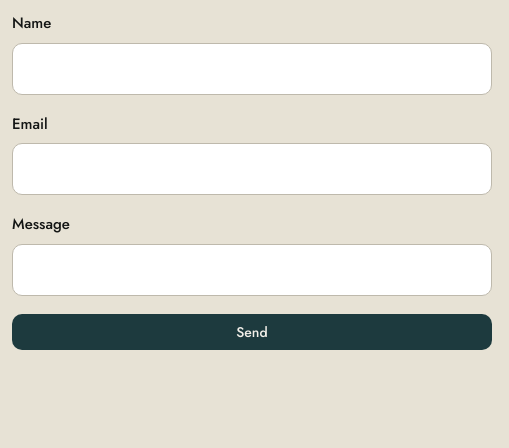
Test case: ContactForm › blocks submit until the inquiry is valid
Click the button "Send": (252, 332) [12,314,492,350]
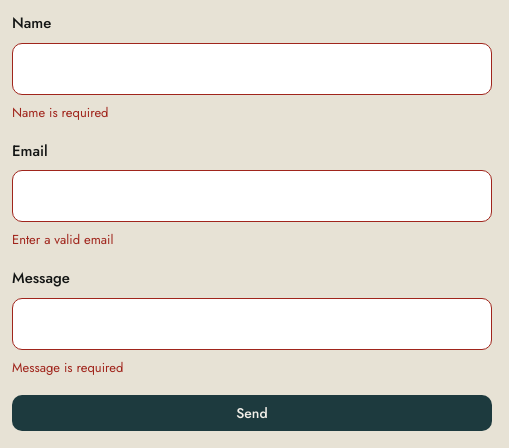
Expected: the text "Name is required" is shown, [12,102,108,122]
